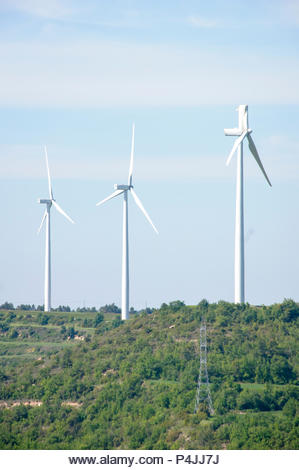faulty: (217, 101, 275, 194)
working: (96, 122, 162, 245)
